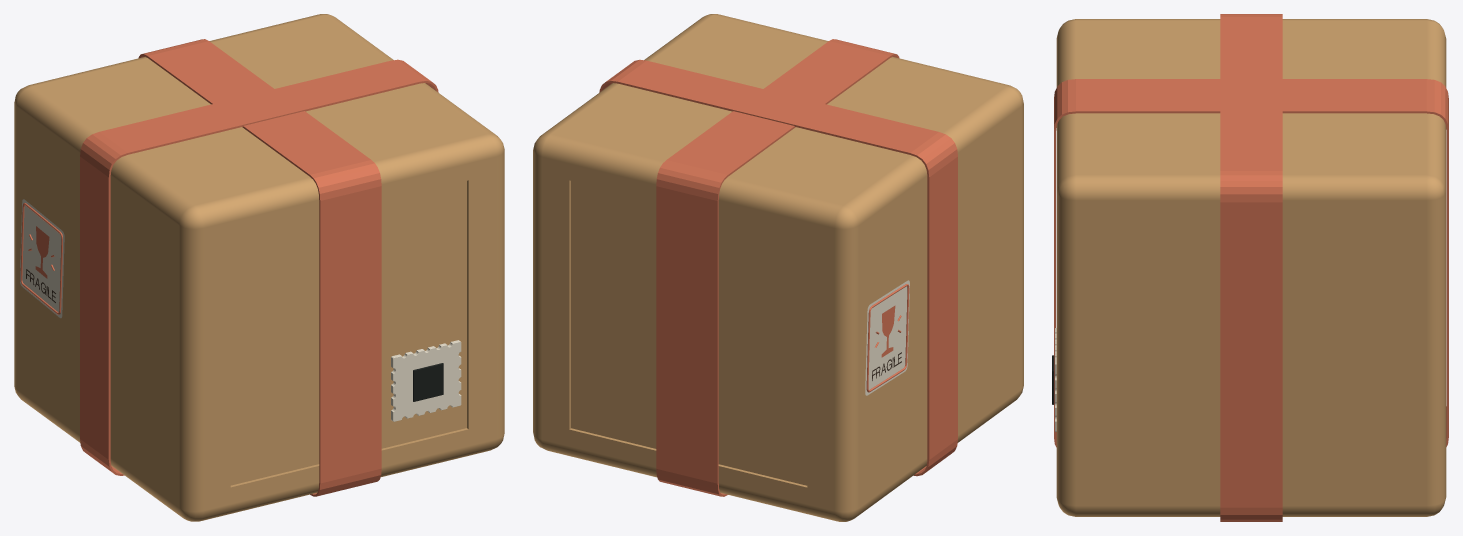
The model's file is play-parcel-small-coral.glb.
3 views of the same model, side by side, from view 1: azimuth 30°, elevation 25°; view 2: azimuth 150°, elevation 25°; view 3: azimuth 270°, elevation 25° (orthographic). The views are drawn at different scales.
Parts seen in each view (by area): view 1: Parcel_Carton, Parcel_Tape_Continuous_Front_Back, Parcel_Tape_Continuous_Left_Right, Parcel_Paper_Label, Parcel_Care_Fragile_Paper, Parcel_Label_Square, Parcel_Care_Fragile_Border; view 2: Parcel_Carton, Parcel_Tape_Continuous_Front_Back, Parcel_Tape_Continuous_Left_Right, Parcel_Care_Fragile_Paper, Parcel_Care_Fragile_Border; view 3: Parcel_Carton, Parcel_Tape_Continuous_Left_Right, Parcel_Tape_Continuous_Front_Back.
Part boxes in pixels (x1,y1,x2,y2): Parcel_Carton: (14, 14, 504, 521); Parcel_Tape_Continuous_Front_Back: (138, 39, 381, 496); Parcel_Tape_Continuous_Left_Right: (80, 59, 438, 475); Parcel_Paper_Label: (391, 340, 461, 421); Parcel_Care_Fragile_Paper: (20, 199, 64, 318); Parcel_Label_Square: (413, 363, 443, 401); Parcel_Care_Fragile_Border: (20, 203, 62, 314); Parcel_Carton: (533, 14, 1023, 521); Parcel_Tape_Continuous_Front_Back: (656, 39, 899, 496); Parcel_Tape_Continuous_Left_Right: (599, 59, 957, 476); Parcel_Care_Fragile_Paper: (865, 280, 909, 395); Parcel_Care_Fragile_Border: (866, 284, 909, 392); Parcel_Carton: (1056, 19, 1446, 516); Parcel_Tape_Continuous_Left_Right: (1220, 14, 1282, 521); Parcel_Tape_Continuous_Front_Back: (1054, 79, 1448, 447).
Bounding box in the file's own units: 0.148 × 0.138 × 0.1427.
